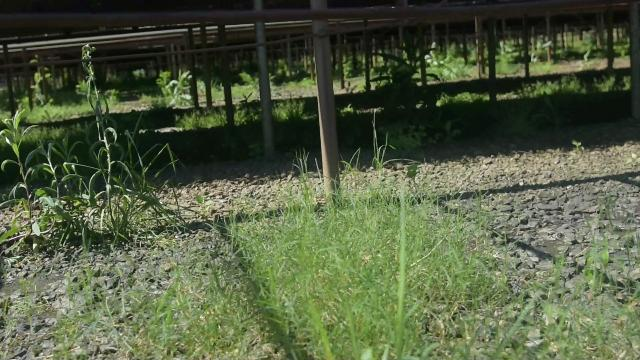MalezaMontesDelPlata: (291, 150, 460, 360), (55, 40, 176, 237), (147, 210, 288, 352), (0, 109, 89, 247)
